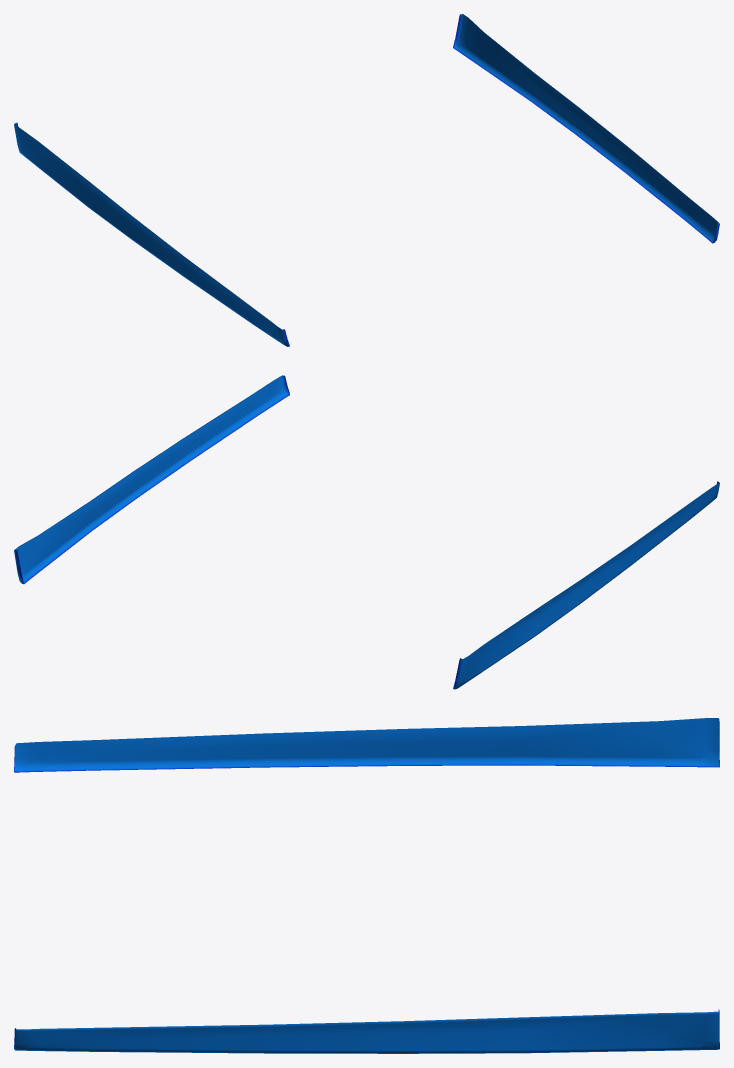
The model's file is AudiR8_Skirt01_Duco.fbx.
3 views of the same model, one above another, from view 1: azimuth 30°, elevation 25°; view 2: azimuth 150°, elevation 25°; view 3: azimuth 270°, elevation 25° (orthographic). The views are drawn at different scales.
Visible parts, largest first — view 1: AudiR8_Skirt01_Duco; view 2: AudiR8_Skirt01_Duco; view 3: AudiR8_Skirt01_Duco.
Boxes of the visible parts, x1=… form: AudiR8_Skirt01_Duco: x1=14, y1=14, x2=719, y2=346; AudiR8_Skirt01_Duco: x1=14, y1=375, x2=719, y2=689; AudiR8_Skirt01_Duco: x1=14, y1=718, x2=719, y2=1053.
Bounding box in the file's own units: 188 × 13.76 × 190.
